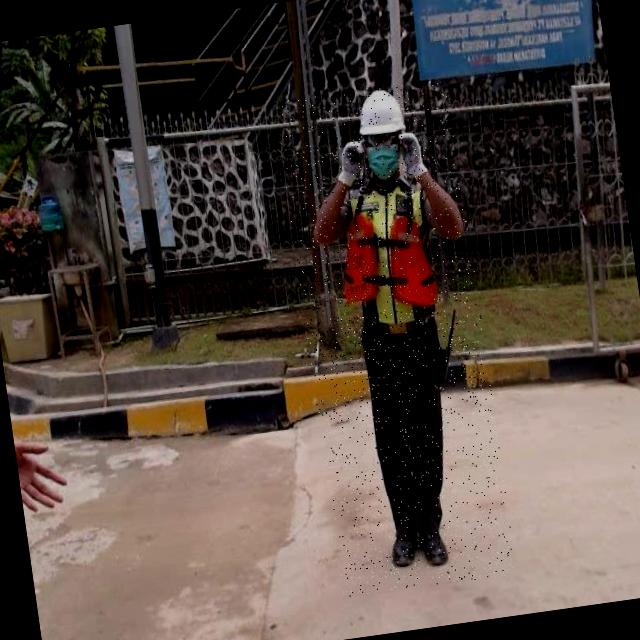boots: (413, 522, 452, 570), (387, 526, 422, 578)
gloves: (330, 64, 428, 202), (310, 125, 364, 207), (390, 111, 434, 196)
helmet: (352, 88, 407, 138)
vest: (329, 175, 445, 333)
